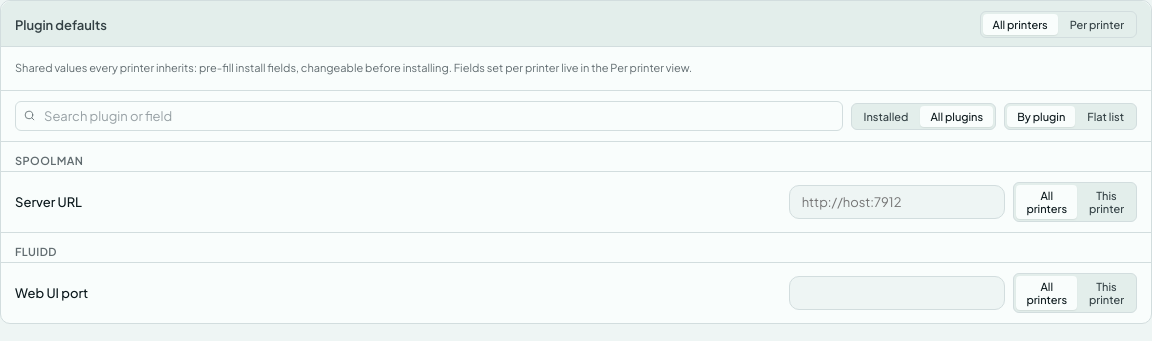
Test: ScopedPluginDefaultsPane organization and search › sections rows under their plugin by default and flattens on demand
Expected: the text "Spoolman" is shown, [1, 142, 1151, 172]
Expected: the text "Server URL" is shown, [15, 194, 82, 210]
Click the button "Flat list" at [1106, 116], box [1077, 106, 1134, 126]
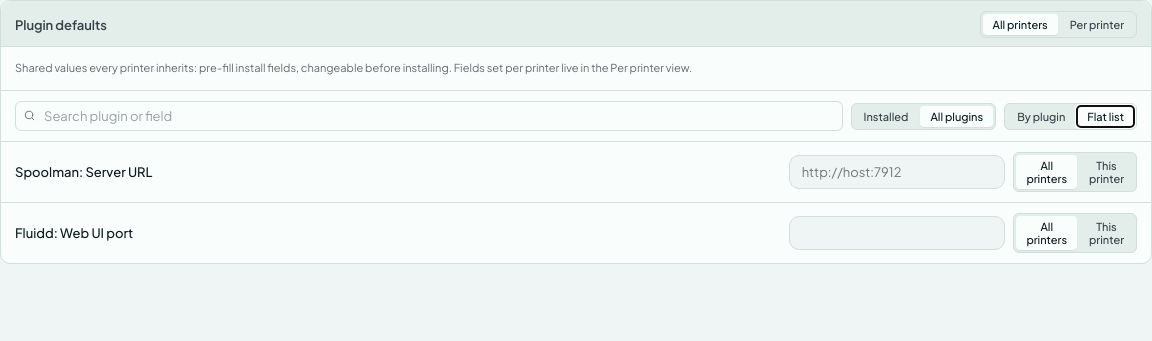
Expected: the text "Spoolman: Server URL" is shown, [15, 164, 152, 180]
